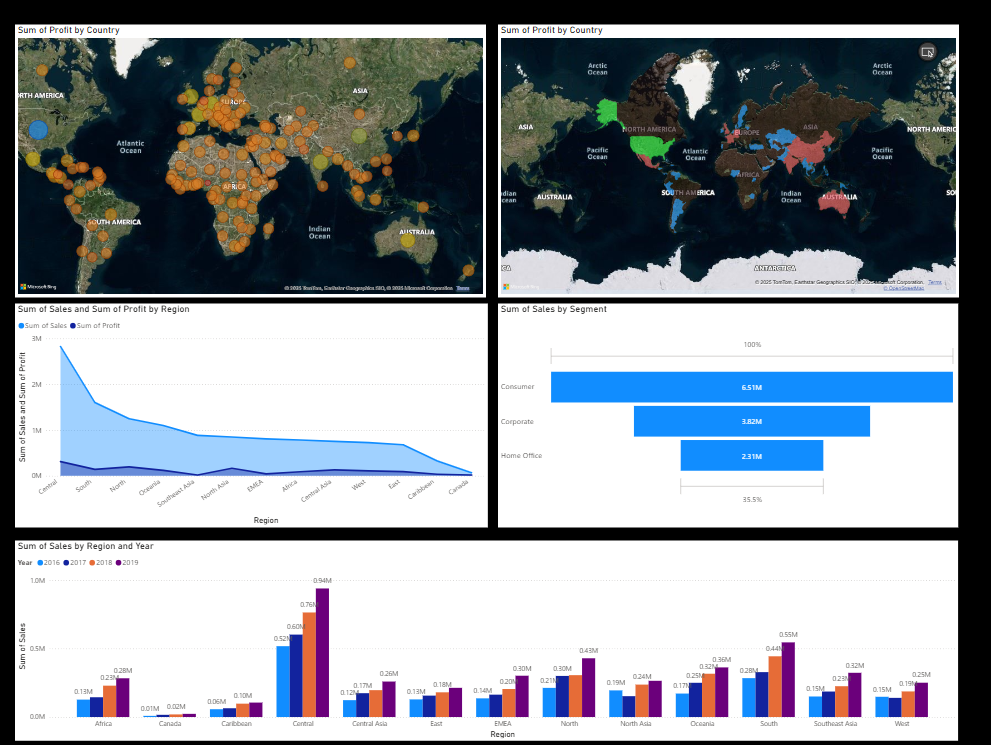

This screenshot's page, from the dashboard's own definition file:
{"tool":"powerbi","page":{"name":"Page 2","canvas":[1800,1350],"ordinal":1},"visuals":[{"type":"actionButton","box":[1427.5,65,152.5,70],"z":0},{"type":"map","fields":{"Category":["Orders.Country"],"Size":["Sum(Orders.Profit)"]},"box":[32.4,45.8,846.7,490.8],"z":1000},{"type":"filledMap","fields":{"Category":["Orders.Country"]},"box":[900.6,45.8,827.8,490.8],"z":2000},{"type":"areaChart","fields":{"Category":["Orders.Region"],"Y":["Sum(Orders.Sales)","Sum(Orders.Profit)"]},"box":[32.5,547.5,850,402.5],"z":3000},{"type":"funnel","fields":{"Category":["Orders.Segment"],"Y":["Sum(Orders.Sales)"]},"box":[900,547.5,827.5,402.5],"z":4000},{"type":"clusteredColumnChart","fields":{"Category":["Orders.Region"],"Y":["Sum(Orders.Sales)"],"Series":["Orders.Order Date.Variation.Date Hierarchy.Year"]},"box":[32.5,972.5,1695,360],"z":5000}]}

Visuals, with their boxes in screenshot pixels (x1, y1, x2, y2), scaled from the page's 1800x1350 canvas onto the 991x745 screenshot:
actionButton: pyautogui.locateOnScreen(786, 36, 870, 74)
map - Orders.Country x Sum(Orders.Profit): pyautogui.locateOnScreen(18, 25, 484, 296)
filledMap - Orders.Country: pyautogui.locateOnScreen(496, 25, 952, 296)
areaChart - Orders.Region x Sum(Orders.Sales): pyautogui.locateOnScreen(18, 302, 486, 524)
funnel - Orders.Segment x Sum(Orders.Sales): pyautogui.locateOnScreen(496, 302, 951, 524)
clusteredColumnChart - Orders.Region x Sum(Orders.Sales): pyautogui.locateOnScreen(18, 537, 951, 735)
